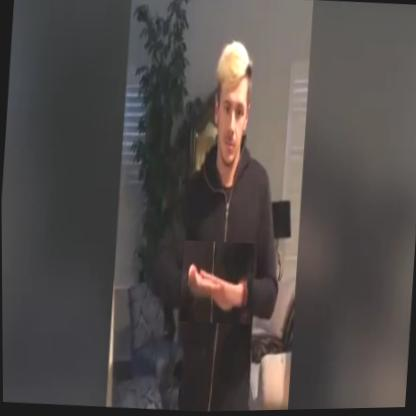NiceToMeetYou: (178, 240, 255, 327)
